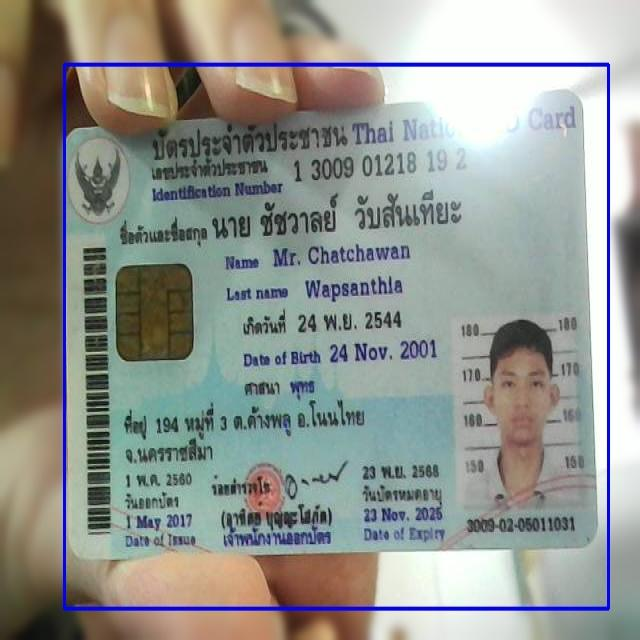Address_th: (117, 400, 374, 468)
Date_of_Birth: (326, 335, 442, 367)
Date_of_Expiry: (359, 503, 445, 530)
Date_of_Issue: (122, 508, 199, 534)
First_Name: (271, 238, 414, 271)
ID_Number: (292, 146, 470, 187)
Image: (452, 317, 586, 510)
Last_Name: (303, 274, 409, 304)
Thai_Name: (207, 189, 488, 242)
